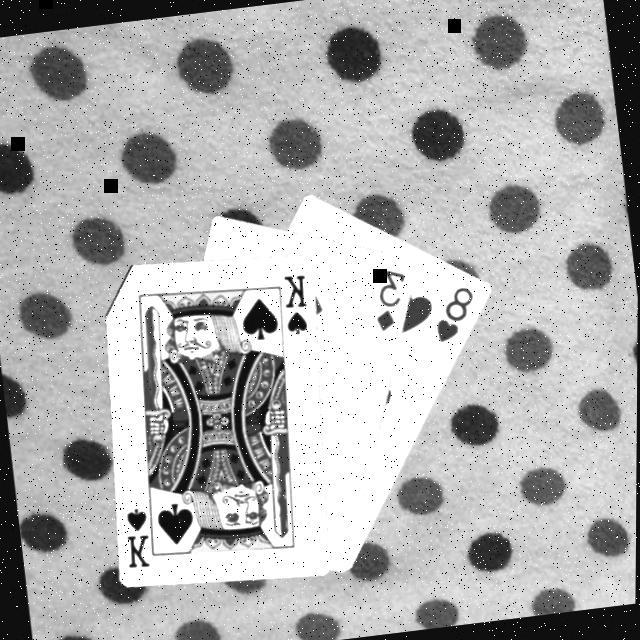3D: (366, 266, 414, 336)
8H: (427, 284, 482, 348)
KS: (119, 499, 162, 573), (276, 271, 314, 340)
